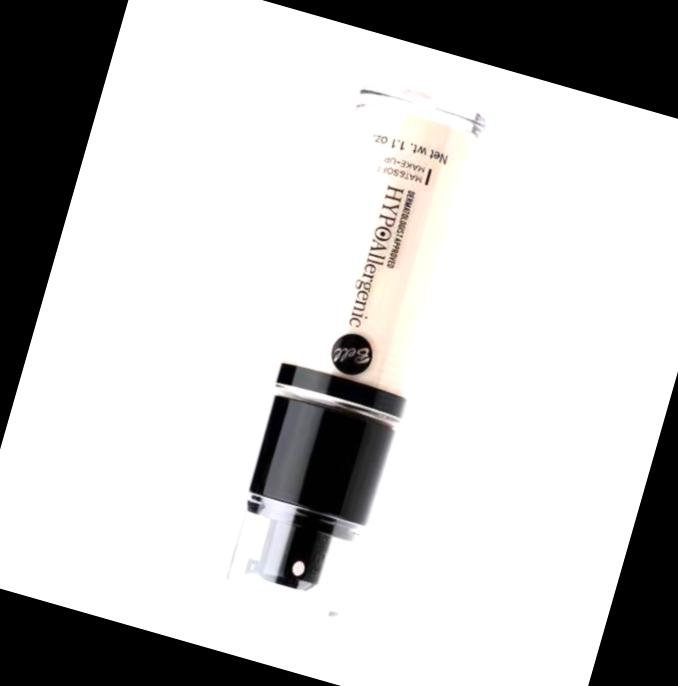cosmetic: (216, 74, 490, 623)
